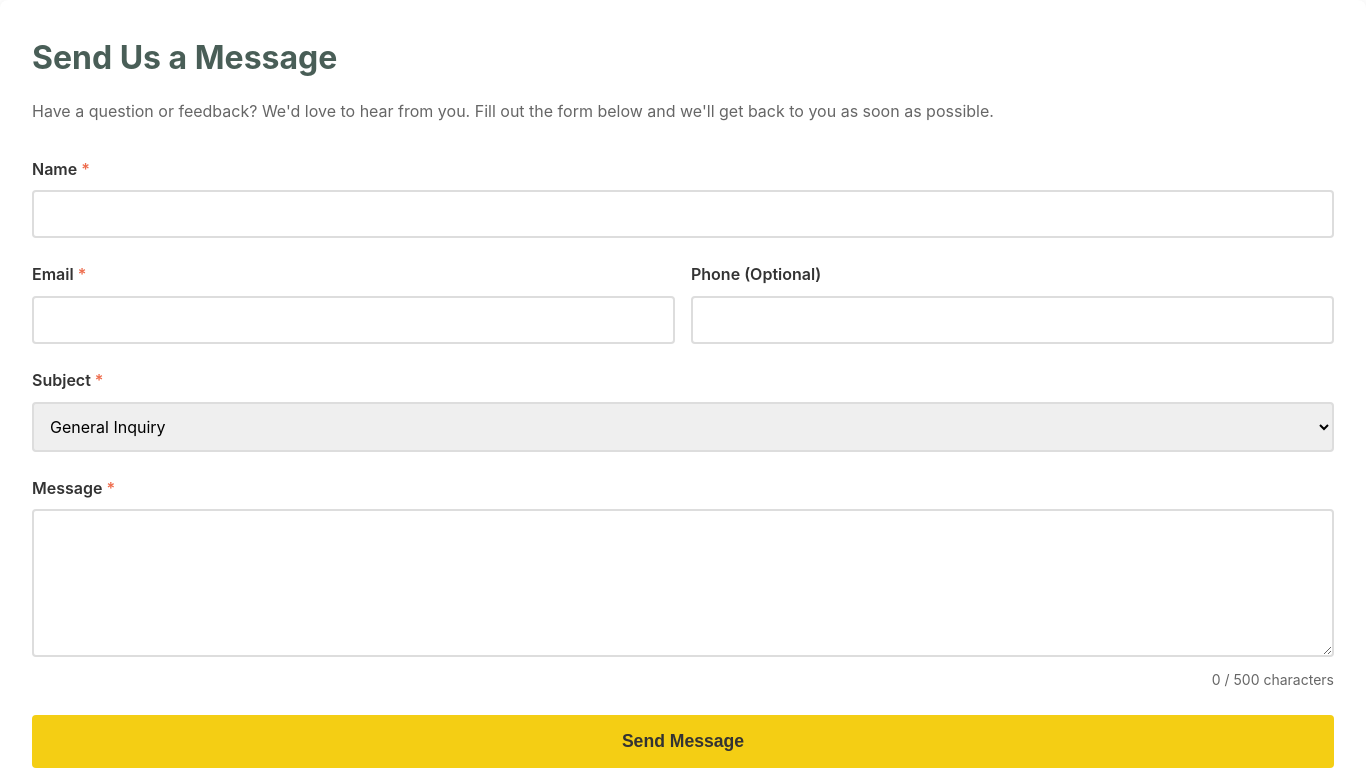
Test: ContactForm › displays validation errors for empty required fields
The width and height of the screenshot is (1366, 768).
Click the button "Send Message".
click(683, 742)  # box x1=32 y1=715 x2=1334 y2=767
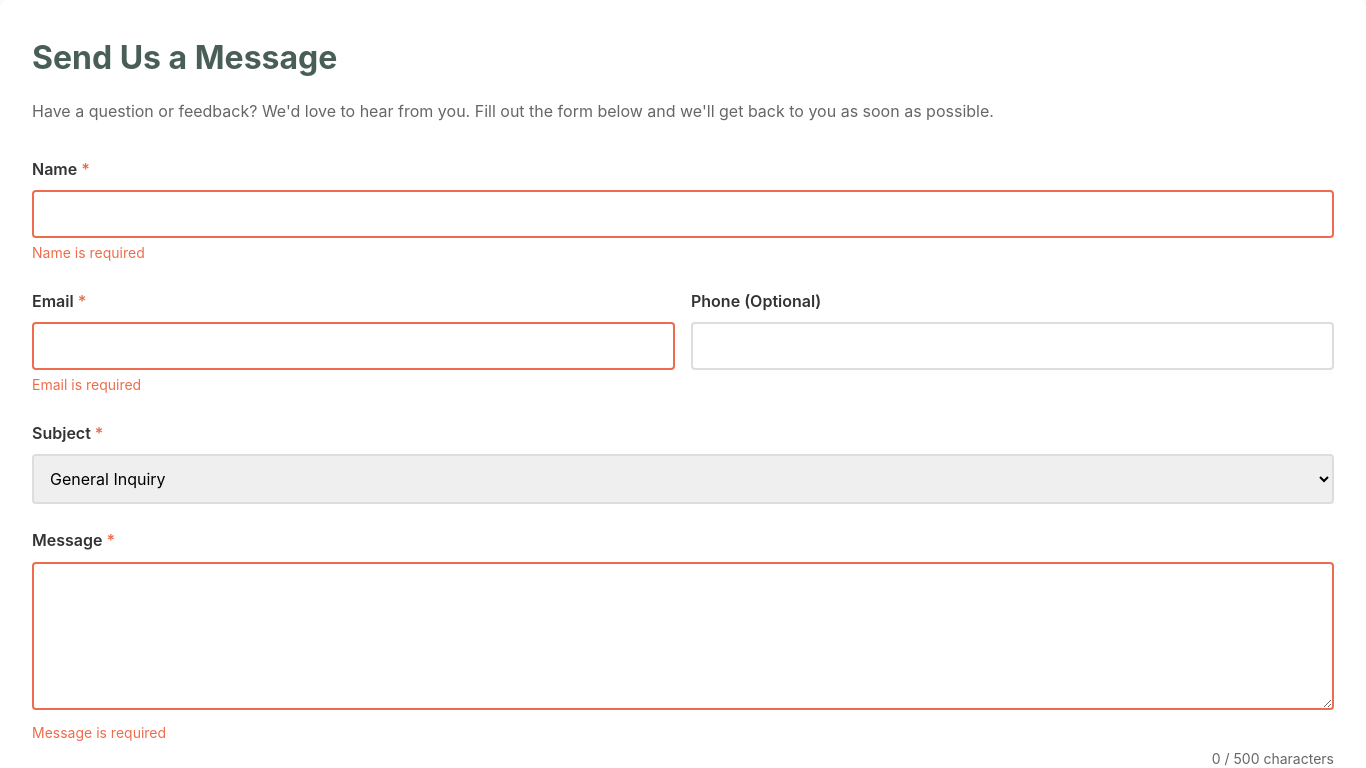
Check: the text "Name is required" is shown, box x1=32 y1=244 x2=145 y2=261
Check: the text "Email is required" is shown, box x1=32 y1=376 x2=141 y2=393
Check: the text "Message is required" is shown, box x1=32 y1=724 x2=166 y2=740
